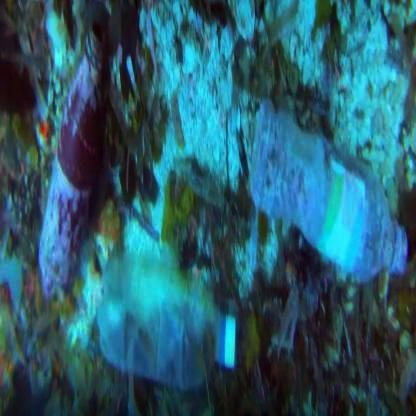gbottle: (53, 47, 102, 286)
pbottle: (252, 110, 416, 318), (83, 245, 257, 400)
